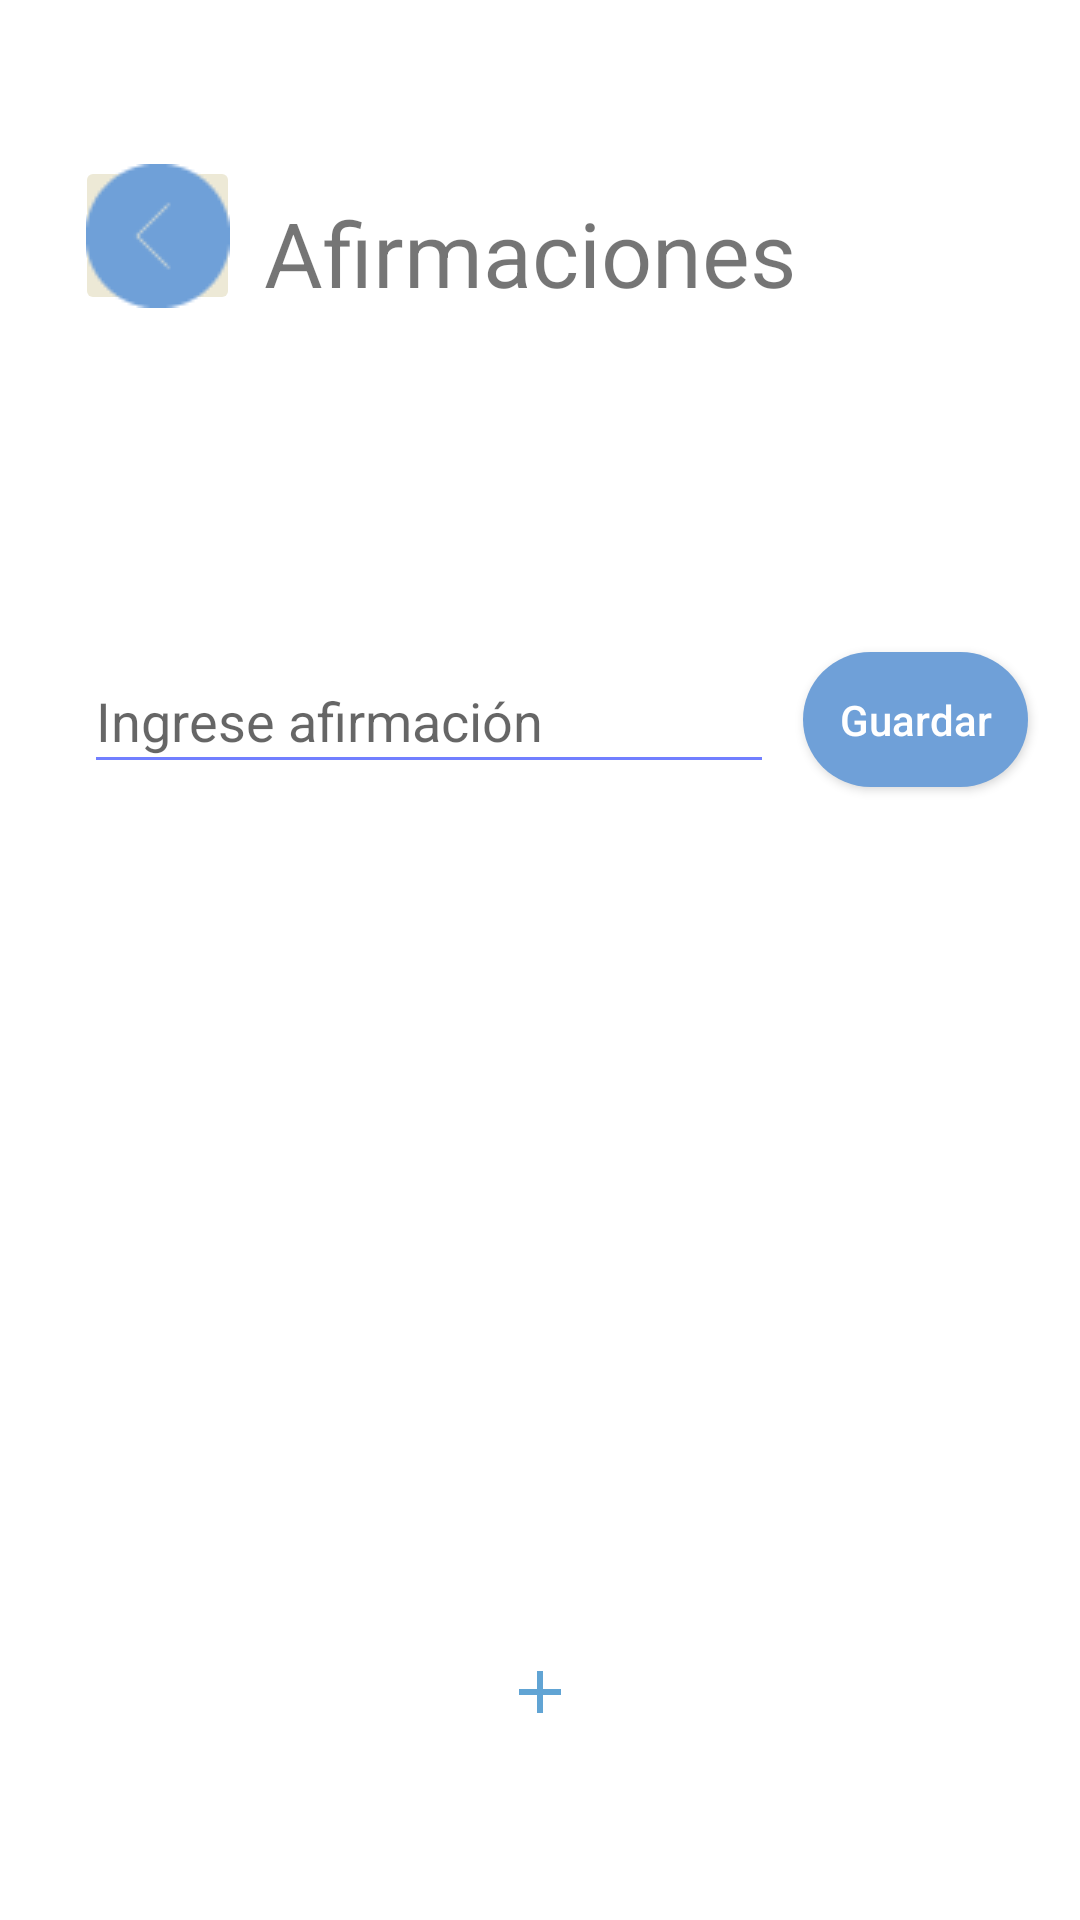

Named icons in this screenshot (1080x1920) and their centers, [x,y]:
regresar: [158,236]
